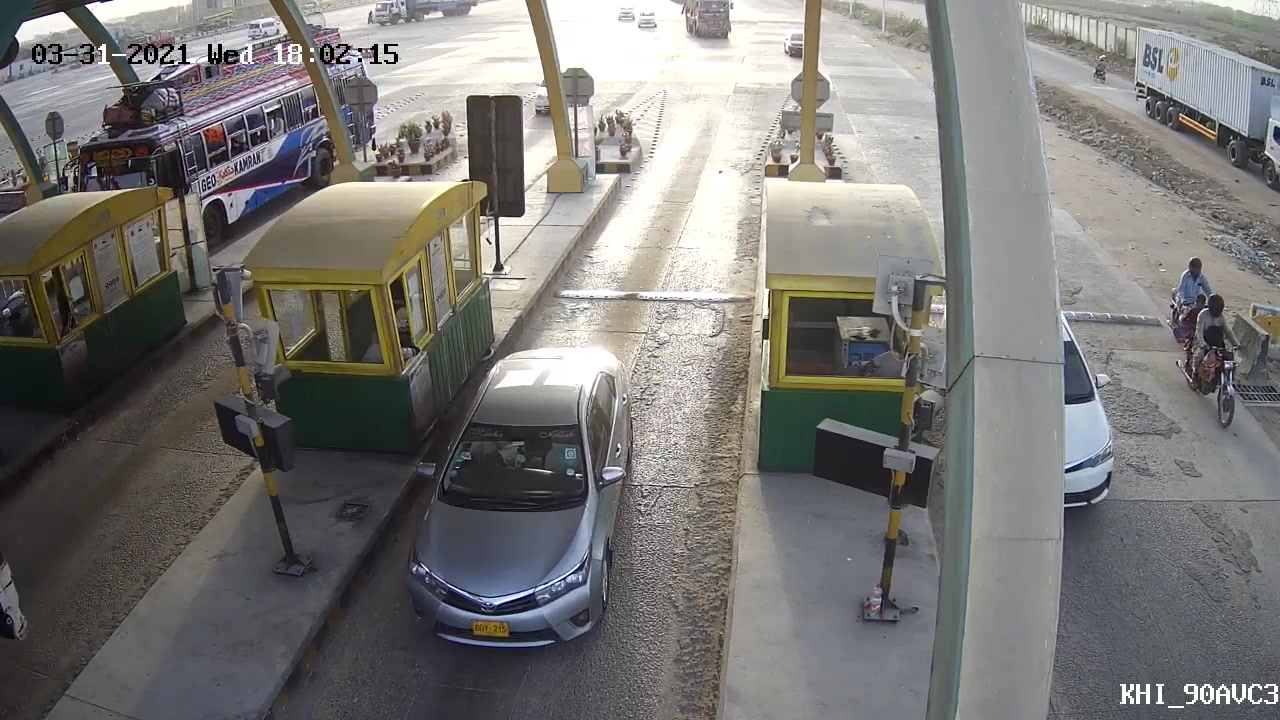F1: (387, 343, 659, 653)
